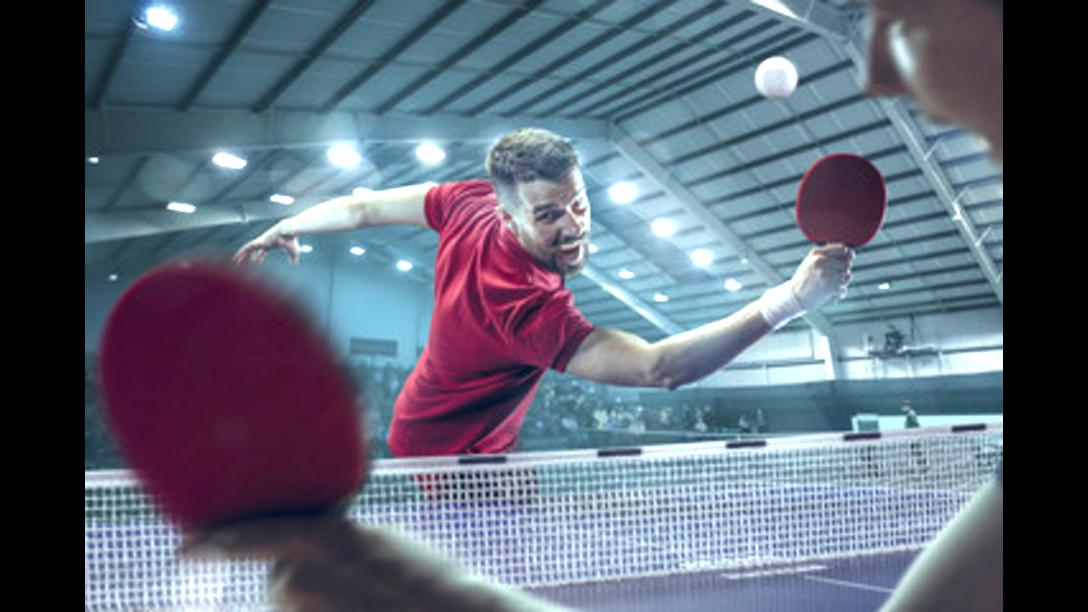Table-Tennis-Ball: (756, 58, 796, 96)
